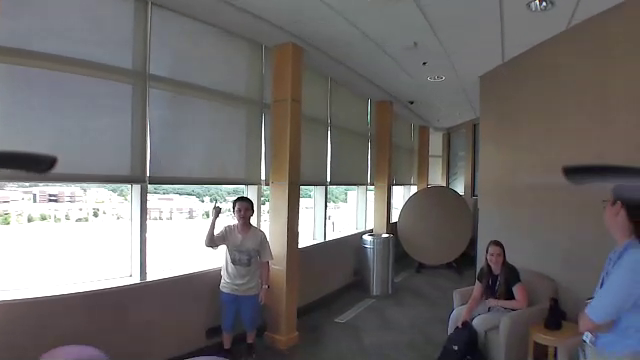up: (210, 196, 227, 223)
